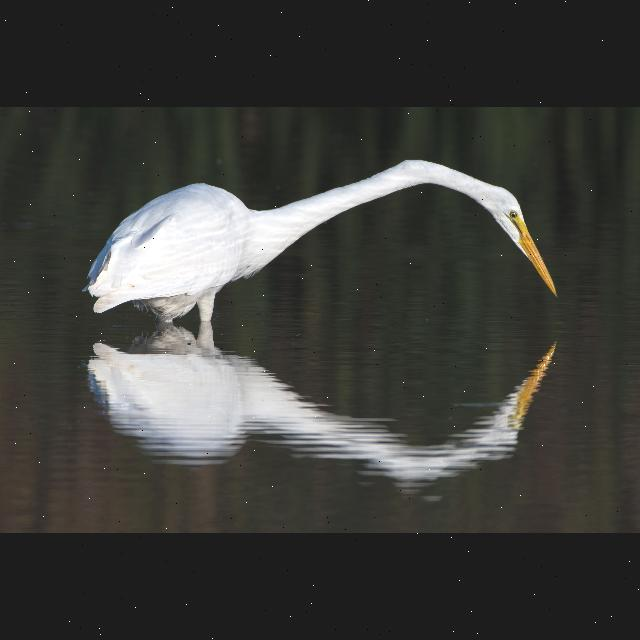egret: (82, 156, 558, 342)
